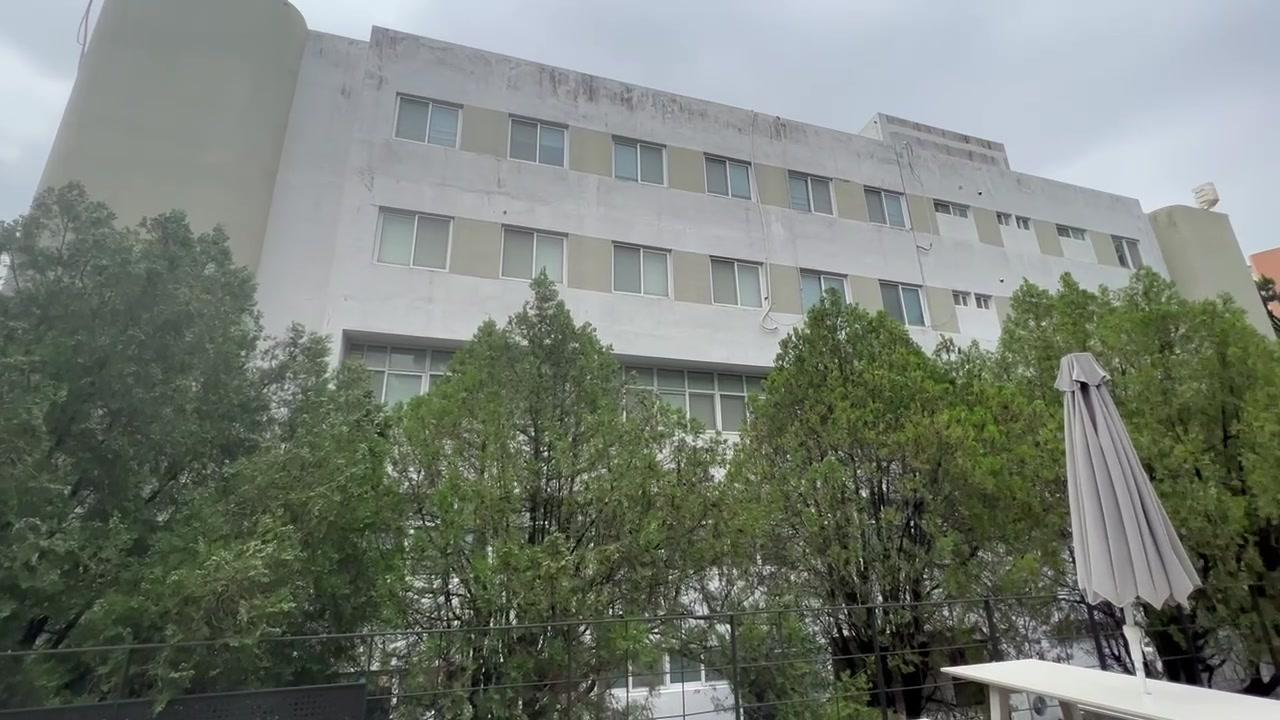building: (279, 28, 1009, 326)
